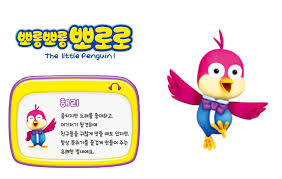Harry: (163, 28, 271, 155), (23, 103, 58, 152)
